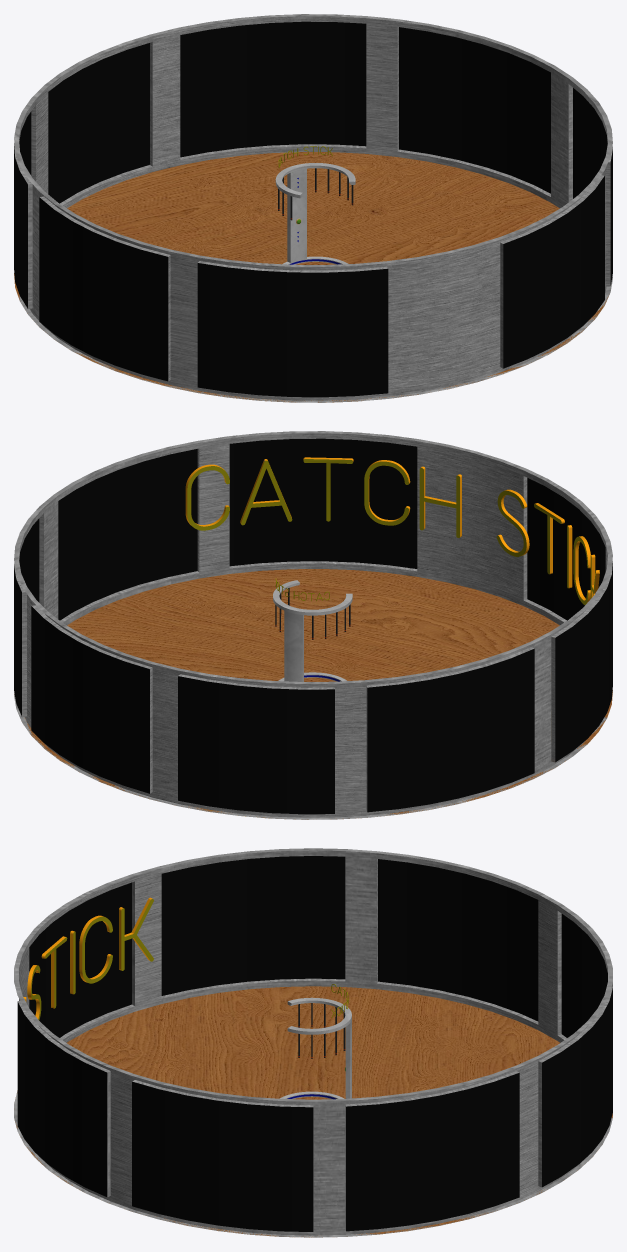
Rendered from GameBatGay.fbx.
3 renders of one model, top to bottom at view 1: azimuth 30°, elevation 25°; view 2: azimuth 150°, elevation 25°; view 3: azimuth 270°, elevation 25°, orthographic.
Parts seen in each view (by area): view 1: BG, TuongNen, Be; view 2: BG, TuongNen, Text, Be; view 3: BG, TuongNen, Be, Text.
Part boxes in pixels (bbox=[...]): BG: bbox=[14, 21, 612, 397]; TuongNen: bbox=[14, 14, 612, 402]; Be: bbox=[275, 163, 355, 264]; BG: bbox=[14, 438, 612, 814]; TuongNen: bbox=[14, 431, 612, 819]; Text: bbox=[187, 459, 595, 604]; Be: bbox=[273, 580, 352, 681]; BG: bbox=[17, 856, 612, 1231]; TuongNen: bbox=[14, 848, 612, 1237]; Be: bbox=[280, 997, 351, 1099]; Text: bbox=[31, 899, 153, 1020].
Bounding box in the file's own units: 1200 × 300 × 1198.
6 materials, 2 textured.
